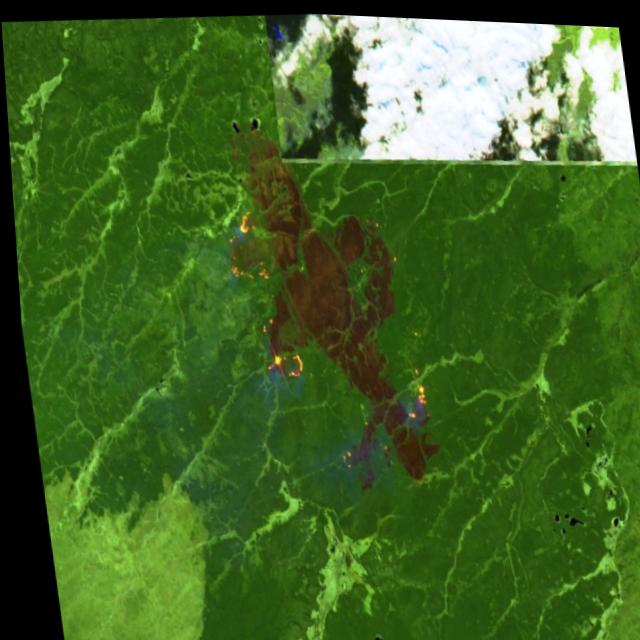fire: (250, 310, 300, 381), (393, 367, 430, 423), (228, 198, 257, 239)
